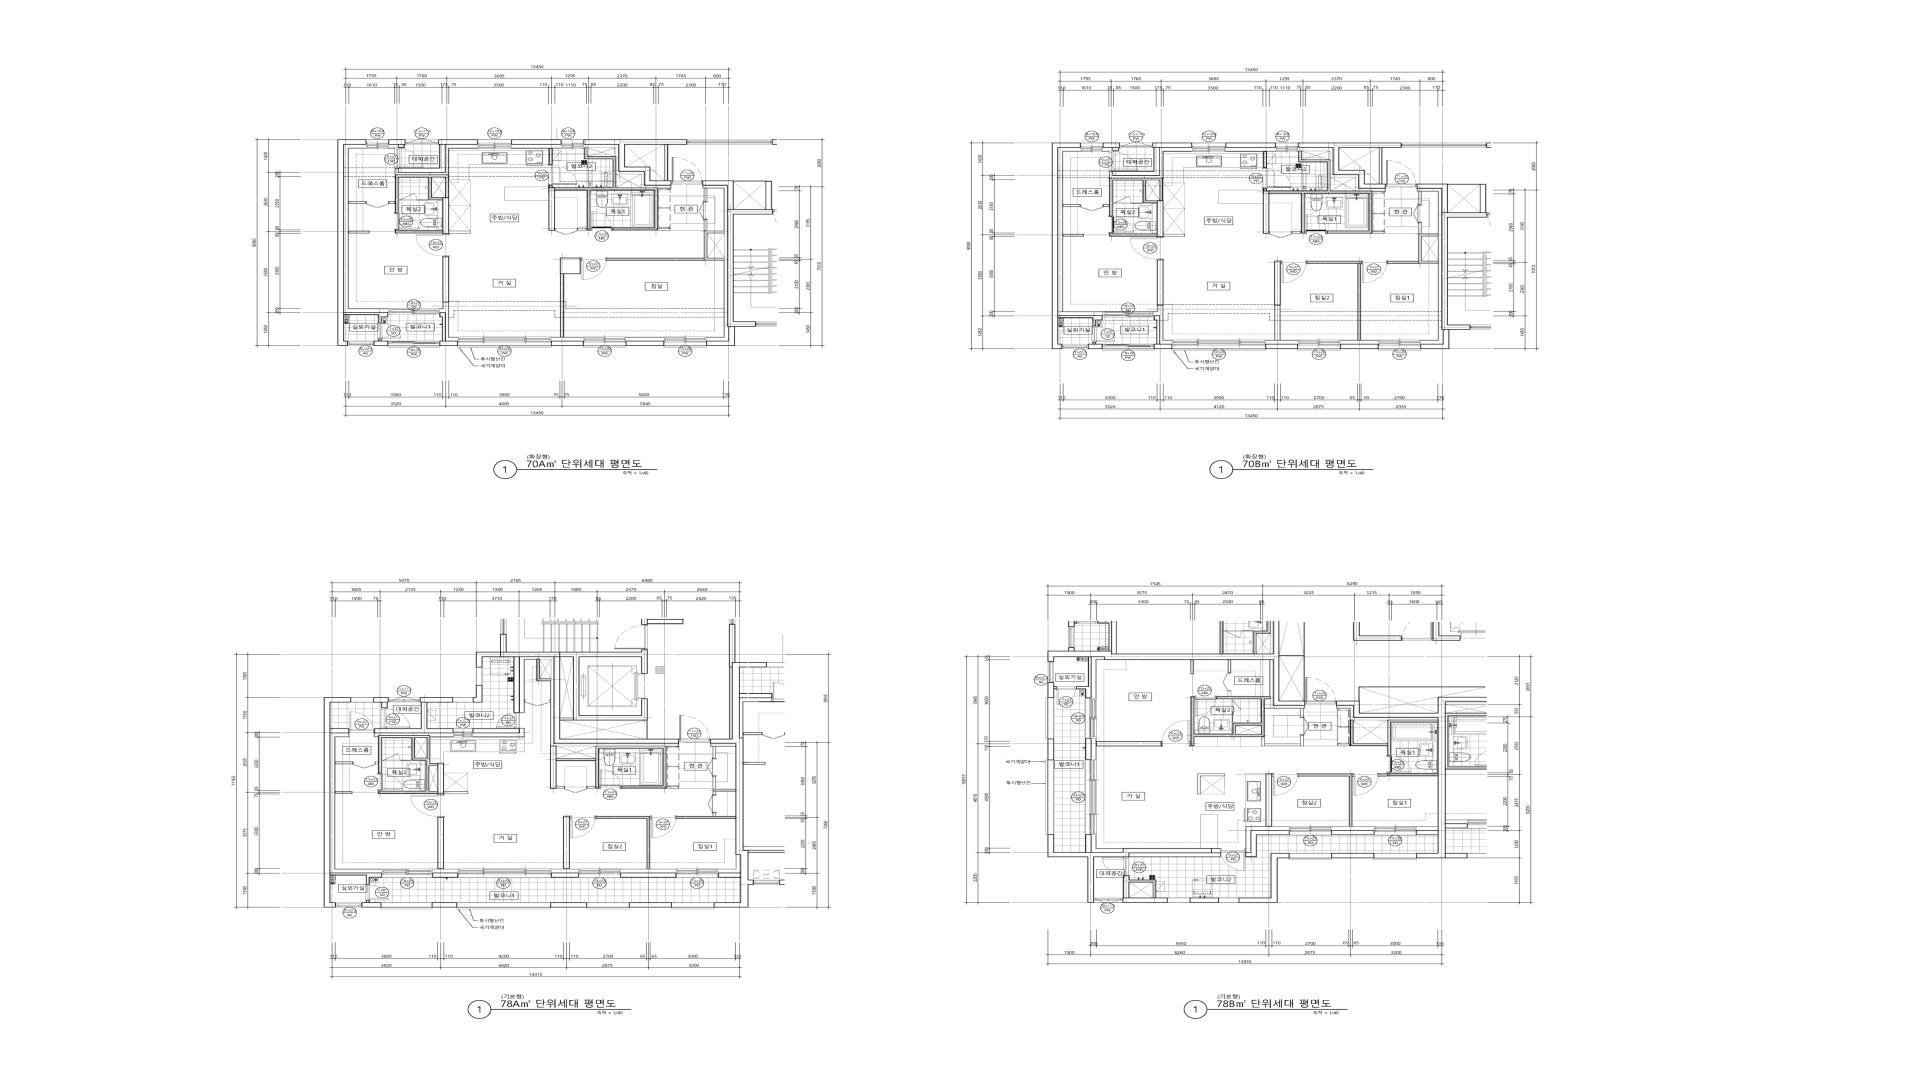door: (679, 715, 711, 741), (671, 157, 703, 183), (615, 625, 647, 650), (410, 794, 444, 818), (1386, 161, 1418, 186), (415, 233, 448, 257), (1162, 720, 1191, 746), (1305, 678, 1336, 703), (549, 165, 578, 186), (650, 816, 676, 839), (1280, 261, 1307, 284), (1220, 848, 1246, 870), (1263, 167, 1291, 189), (1352, 774, 1379, 795), (381, 708, 410, 728), (394, 148, 423, 167), (1109, 152, 1138, 171), (1362, 261, 1387, 284), (348, 712, 375, 733), (570, 816, 596, 837), (580, 258, 607, 280), (1273, 774, 1299, 795), (1102, 857, 1129, 876), (599, 769, 621, 789), (591, 211, 613, 231), (1387, 756, 1411, 774), (1195, 696, 1216, 716), (1304, 215, 1327, 233), (378, 774, 402, 791), (1109, 216, 1133, 233), (378, 323, 401, 339), (1093, 326, 1116, 342), (496, 713, 520, 728), (367, 885, 388, 901), (1270, 231, 1292, 239), (525, 699, 550, 705), (352, 762, 376, 769), (365, 202, 389, 208), (1080, 204, 1104, 211), (564, 786, 587, 793), (555, 228, 578, 235), (708, 758, 716, 777), (699, 202, 707, 220), (1414, 204, 1422, 223), (1224, 673, 1232, 691), (1300, 717, 1308, 736), (382, 753, 400, 761), (708, 795, 716, 812), (400, 193, 417, 200), (1113, 196, 1131, 203), (1232, 699, 1241, 712)
wall: (1047, 621, 1305, 705), (676, 624, 749, 907), (476, 650, 679, 744), (607, 186, 728, 342), (1336, 698, 1445, 858), (520, 657, 679, 746), (323, 698, 381, 907), (1047, 835, 1220, 903), (1416, 183, 1487, 349), (703, 181, 773, 345), (1052, 142, 1102, 349), (338, 140, 388, 345), (555, 145, 671, 231), (1263, 150, 1373, 233), (1058, 148, 1102, 315), (330, 733, 381, 873), (550, 746, 666, 789), (1298, 142, 1402, 189), (584, 140, 687, 186), (1307, 261, 1362, 340), (1191, 696, 1271, 746), (1418, 189, 1443, 344), (1298, 148, 1386, 191), (378, 736, 443, 794), (1109, 178, 1163, 236), (394, 140, 477, 175), (596, 816, 650, 869), (1299, 774, 1353, 827), (375, 698, 454, 733), (1113, 142, 1192, 175), (1238, 853, 1290, 903), (1109, 148, 1192, 178), (1265, 659, 1305, 717), (389, 175, 448, 214), (551, 274, 583, 342), (1336, 705, 1437, 720), (1266, 306, 1298, 344), (1124, 876, 1167, 903), (1246, 831, 1290, 857), (1246, 827, 1290, 852), (512, 145, 562, 165), (439, 302, 458, 342), (1154, 306, 1172, 344), (1154, 315, 1172, 349), (439, 313, 458, 345), (1197, 774, 1225, 794), (1092, 835, 1122, 852), (1092, 657, 1104, 699), (472, 728, 525, 737), (707, 233, 725, 258), (1262, 736, 1304, 746), (1422, 236, 1439, 261), (717, 855, 740, 873), (713, 777, 736, 795), (709, 744, 736, 758), (1129, 882, 1153, 898), (1129, 853, 1220, 857), (563, 816, 570, 869), (1096, 741, 1162, 746), (1266, 774, 1273, 827), (438, 818, 444, 869), (560, 257, 580, 274), (375, 733, 454, 737), (537, 659, 551, 680), (1156, 260, 1163, 306), (620, 873, 676, 878), (549, 186, 555, 231), (1274, 261, 1280, 306), (1146, 181, 1159, 203), (641, 618, 683, 625), (1225, 142, 1276, 148), (587, 148, 616, 157), (512, 140, 562, 145), (472, 728, 520, 733), (443, 257, 448, 302), (620, 869, 676, 873), (629, 902, 671, 907), (1332, 853, 1374, 858), (1225, 148, 1276, 152), (1340, 344, 1378, 349), (394, 229, 443, 233), (551, 902, 587, 907), (443, 198, 448, 233), (729, 667, 732, 738), (472, 686, 483, 703), (1266, 344, 1298, 349), (1332, 831, 1374, 835), (1332, 827, 1374, 831), (373, 698, 389, 708), (1102, 142, 1120, 152), (1189, 898, 1218, 903), (1340, 340, 1378, 344), (551, 873, 579, 878), (626, 342, 663, 345), (626, 338, 663, 342), (1047, 738, 1054, 760), (1085, 738, 1092, 760), (1047, 683, 1056, 698), (433, 873, 458, 878), (361, 901, 381, 907), (433, 902, 456, 907), (389, 140, 405, 148), (551, 342, 583, 345), (1088, 342, 1102, 349), (551, 869, 579, 873), (433, 869, 458, 873), (373, 339, 388, 345), (665, 145, 667, 181), (1379, 148, 1382, 183), (1387, 261, 1419, 264), (1092, 738, 1096, 760), (1416, 827, 1437, 831), (443, 791, 468, 794), (1263, 152, 1267, 167), (448, 231, 471, 233), (348, 231, 369, 233), (1228, 659, 1232, 673), (348, 202, 365, 204), (733, 181, 766, 182), (1102, 148, 1113, 152), (1448, 183, 1480, 185), (1191, 659, 1193, 674), (389, 145, 398, 149), (666, 786, 679, 789), (560, 717, 574, 720), (1337, 744, 1350, 746), (1373, 231, 1385, 233), (1163, 235, 1185, 236), (1292, 231, 1302, 233), (587, 786, 596, 789), (1228, 691, 1232, 696), (556, 786, 564, 789), (400, 760, 411, 761), (417, 199, 427, 200), (1104, 204, 1109, 207), (1232, 712, 1233, 723), (713, 812, 716, 816), (376, 762, 378, 765), (1131, 203, 1142, 203)
window: (1172, 340, 1266, 351), (458, 338, 551, 348), (458, 869, 551, 878), (1085, 760, 1096, 835), (456, 903, 551, 910), (1046, 760, 1054, 835), (381, 869, 433, 878), (1378, 340, 1422, 351), (663, 338, 707, 348), (583, 338, 626, 348), (1298, 340, 1340, 351), (1085, 698, 1096, 738), (676, 869, 719, 878), (579, 869, 620, 878), (388, 342, 440, 348), (671, 902, 715, 910), (381, 903, 433, 910), (1102, 311, 1154, 318), (1102, 344, 1154, 351), (587, 902, 629, 910), (1290, 827, 1332, 835), (1374, 827, 1416, 835), (1046, 698, 1054, 738), (477, 140, 512, 149), (1192, 142, 1225, 152), (1290, 853, 1332, 860), (1374, 853, 1416, 860), (388, 309, 439, 314), (1120, 141, 1153, 148), (405, 138, 438, 145), (388, 696, 419, 703), (367, 140, 389, 149), (1080, 142, 1102, 152), (562, 140, 584, 149), (1276, 142, 1298, 152), (1095, 898, 1124, 905), (454, 728, 472, 737), (335, 902, 361, 907), (1062, 344, 1088, 349), (1047, 662, 1054, 683), (476, 667, 483, 686), (351, 698, 373, 703), (1167, 898, 1189, 903), (452, 698, 472, 703), (1218, 898, 1238, 903), (348, 342, 373, 345)
